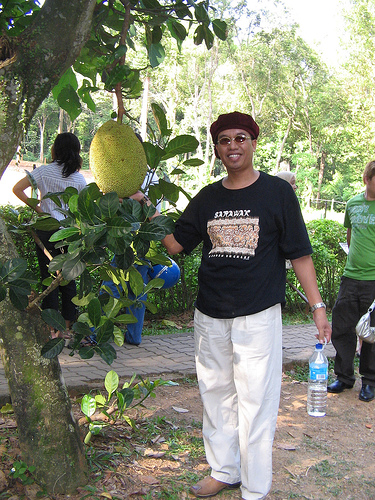jackfruit: (91, 117, 148, 196)
